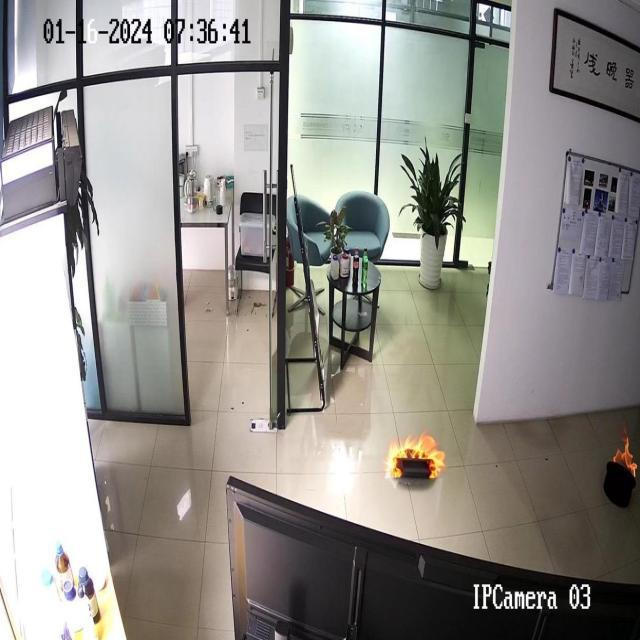smoke: (383, 432, 446, 486), (606, 427, 640, 480)
